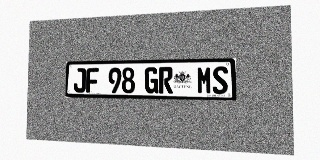8: (122, 67, 135, 93)
9: (108, 67, 121, 93)
F: (86, 68, 99, 93)
G: (144, 67, 158, 93)
J: (73, 68, 86, 93)
M: (197, 66, 212, 94)
R: (159, 67, 173, 94)
S: (212, 66, 228, 94)
